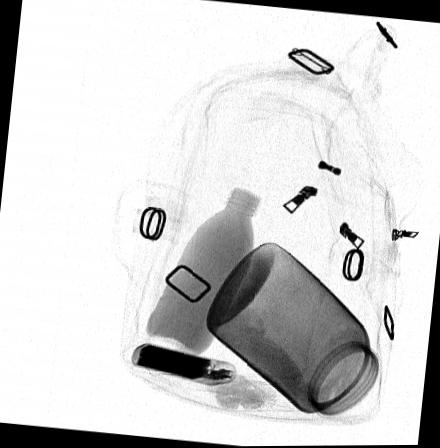Powerbank: (129, 342, 238, 387)
